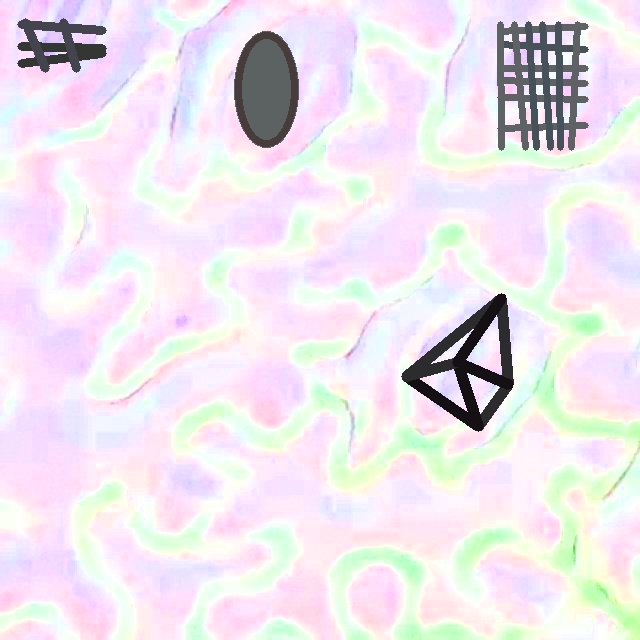open: (402, 294, 512, 430), (497, 21, 588, 150), (234, 32, 298, 146), (17, 18, 106, 72)
